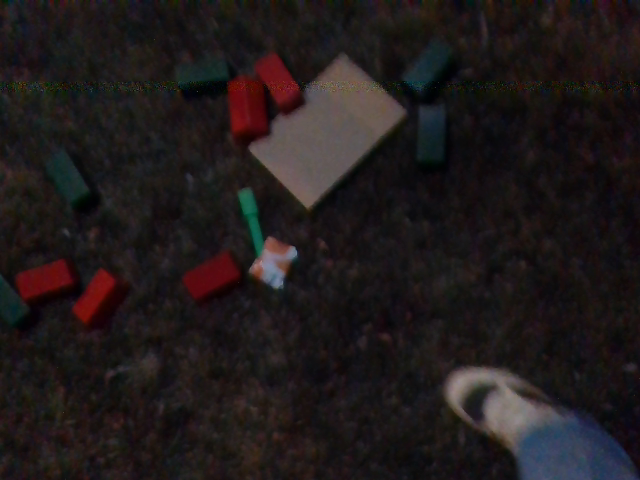Probe: (234, 184, 273, 263)
